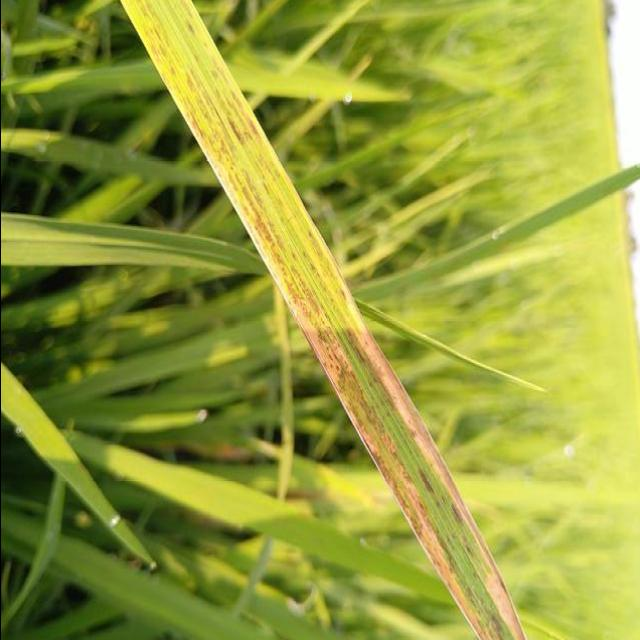Leaf Streak: (117, 0, 525, 640)
